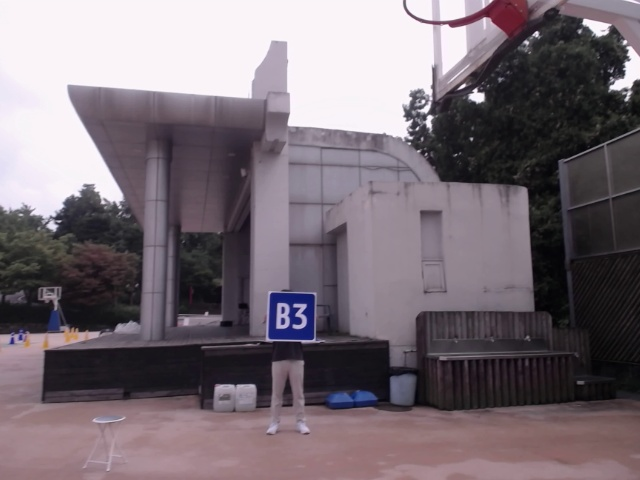delivery_b3: (267, 290, 315, 340)
